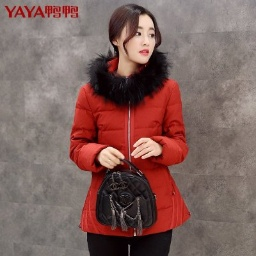face: (106, 3, 163, 67)
